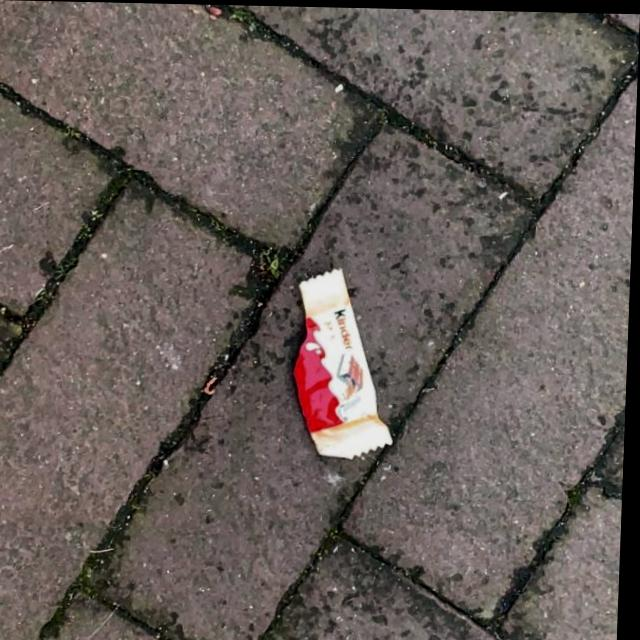Plastic: (290, 263, 404, 461)
